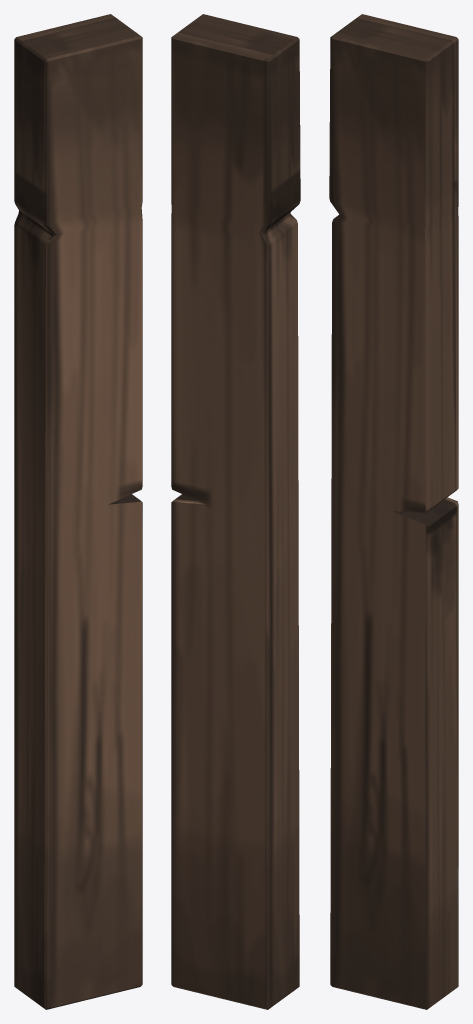
File: Z1_Small_Wood_Pillar_1.FBX
The picture shows the model from 3 angles, left to right: view 1: azimuth 30°, elevation 25°; view 2: azimuth 150°, elevation 25°; view 3: azimuth 330°, elevation 25°; orthographic projection.
Visible parts, largest first — view 1: Z1_Small_Wood_Pillar_1; view 2: Z1_Small_Wood_Pillar_1; view 3: Z1_Small_Wood_Pillar_1.
Part boxes in pixels (x1,y1,x2,y2): Z1_Small_Wood_Pillar_1: (14,14,142,1009); Z1_Small_Wood_Pillar_1: (171,14,300,1009); Z1_Small_Wood_Pillar_1: (329,14,458,1009).
Size of the model in its own units: 20.24 by 185 by 11.3.
